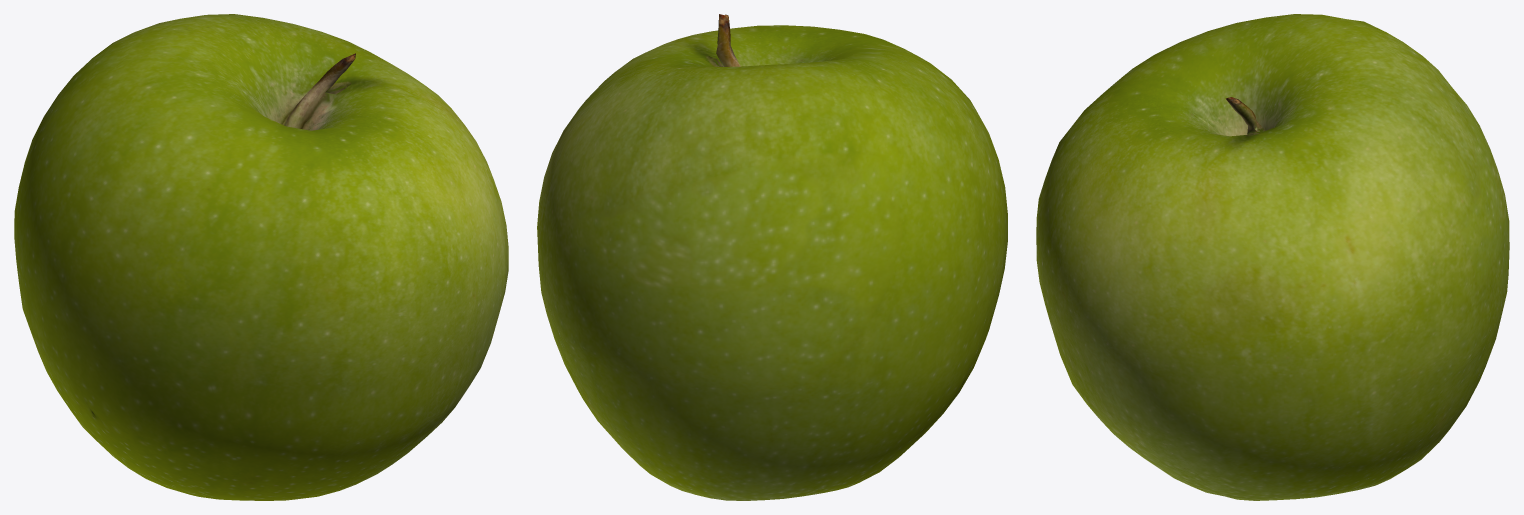
The model's file is GreenApple.fbx.
The picture shows the model from 3 angles, left to right: view 1: azimuth 30°, elevation 25°; view 2: azimuth 150°, elevation 25°; view 3: azimuth 270°, elevation 25°; orthographic projection. The views are drawn at different scales.
Parts seen in each view (by area): view 1: GreenApple; view 2: GreenApple; view 3: GreenApple.
Part boxes in pixels (x1,y1,x2,y2): GreenApple: (14, 14, 508, 500); GreenApple: (537, 14, 1007, 500); GreenApple: (1036, 14, 1509, 500).
Bounding box in the file's own units: 8.8 × 8.54 × 8.93.
